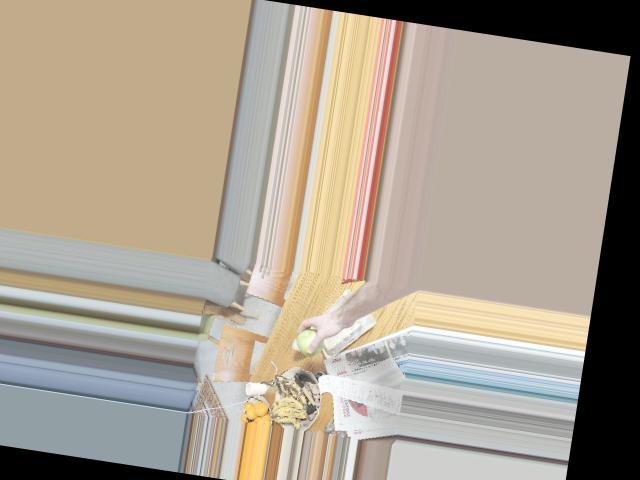apple: (292, 323, 331, 358)
